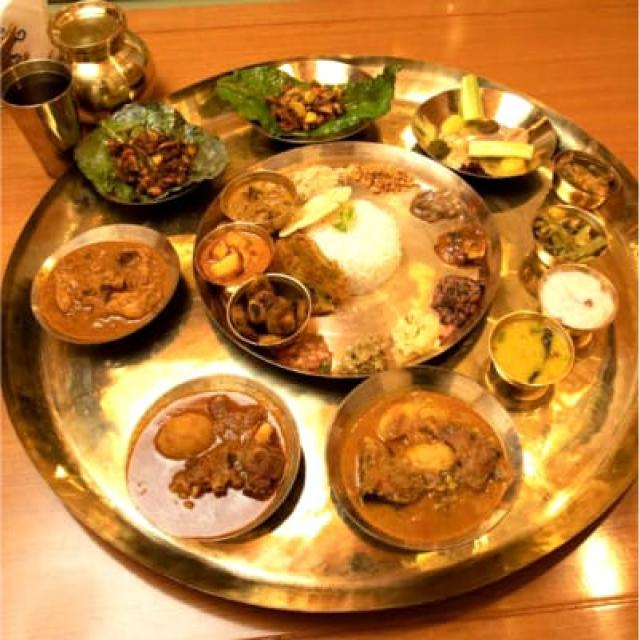non veg meals: (0, 52, 636, 595)
